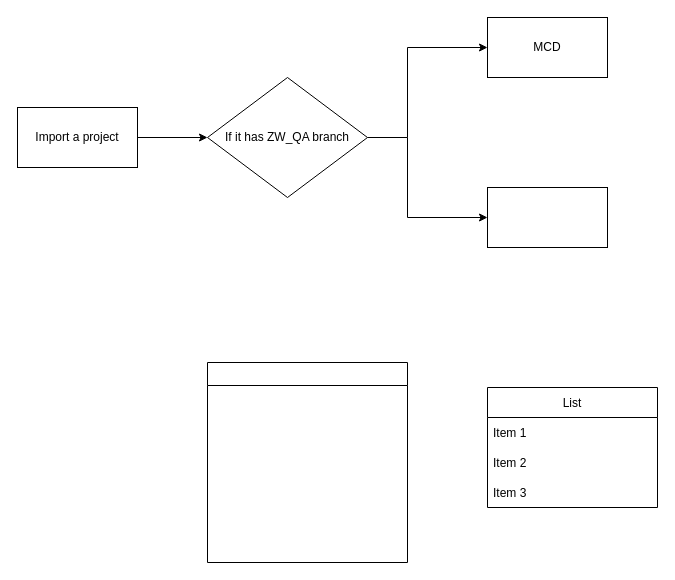
Some shapes in this 675 by 580 pixel diagram are drawn without their labels. Here are the shapes that lost their labels. From the top down, the centre of each, then its label:
At point 547,217: "MCD + MCD_QA".
At point 307,462: "Vertical Container".
